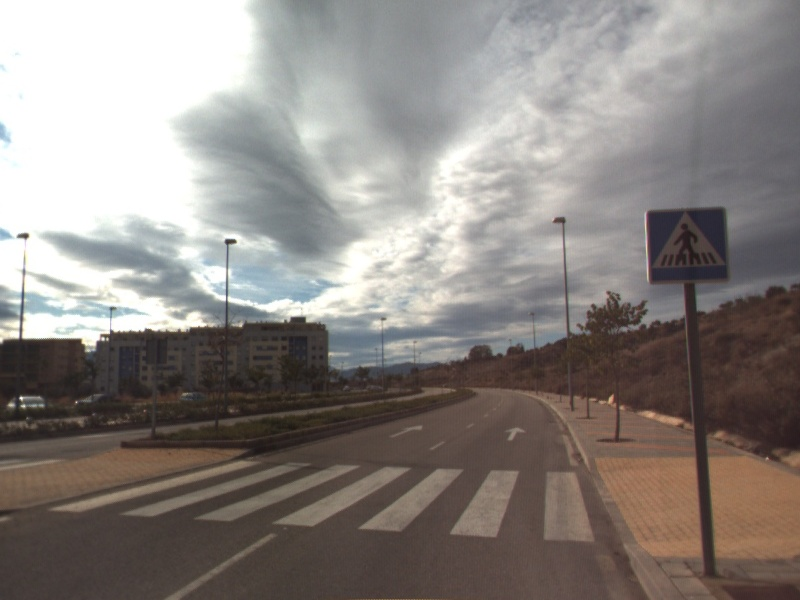STRAIGHT: (387, 422, 425, 439), (503, 424, 528, 442)
